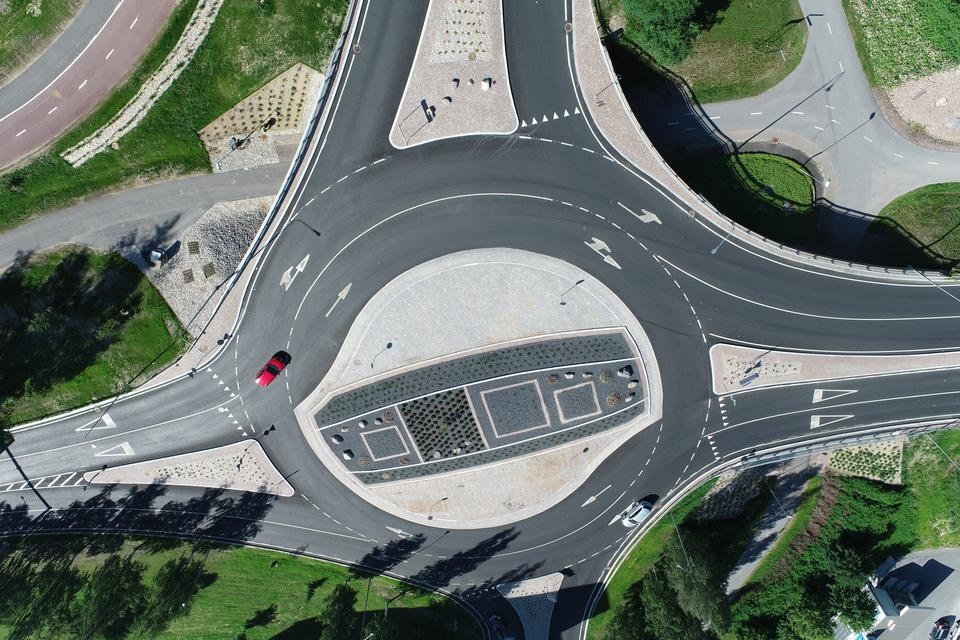roundabout: (201, 23, 783, 627)
